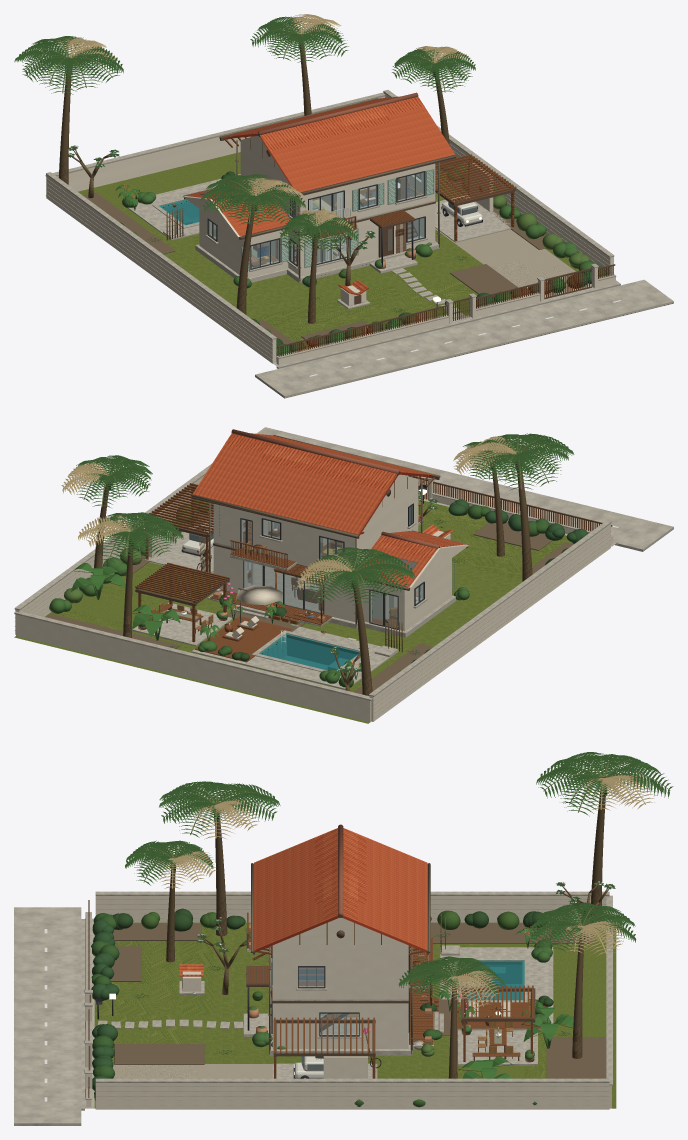
The model's file is lanai_house.glb.
3 renders of one model, top to bottom at view 1: azimuth 30°, elevation 25°; view 2: azimuth 150°, elevation 25°; view 3: azimuth 270°, elevation 25°, orthographic. The views are drawn at different scales.
Parts seen in each view (by area): view 1: SITE_All, LANDSCAPE_All, ROOF_All, GF_House, F2_House, POOL_All, GF_Trim, GF_Interior, F2_Interior; view 2: SITE_All, LANDSCAPE_All, ROOF_All, GF_House, POOL_All, F2_House, GF_Trim, POOL_Water, GF_Interior, F2_Interior; view 3: SITE_All, LANDSCAPE_All, ROOF_All, F2_House, GF_House, POOL_All, GF_Trim, POOL_Water, F2_Interior.
Part boxes in pixels (<box>): SITE_All: <box>45,90,673,398</box>; LANDSCAPE_All: <box>14,14,606,359</box>; ROOF_All: <box>183,92,456,281</box>; GF_House: <box>195,190,439,282</box>; F2_House: <box>240,142,435,247</box>; POOL_All: <box>121,174,240,240</box>; GF_Trim: <box>292,201,435,267</box>; GF_Interior: <box>251,222,418,267</box>; F2_Interior: <box>294,176,410,221</box>; SITE_All: <box>14,427,673,723</box>; LANDSCAPE_All: <box>49,433,588,696</box>; ROOF_All: <box>191,429,468,627</box>; GF_House: <box>211,527,455,637</box>; POOL_All: <box>191,585,403,689</box>; F2_House: <box>213,481,422,570</box>; GF_Trim: <box>208,505,336,626</box>; POOL_Water: <box>264,637,356,670</box>; GF_Interior: <box>243,532,420,620</box>; F2_Interior: <box>244,520,343,559</box>; SITE_All: <box>14,891,616,1125</box>; LANDSCAPE_All: <box>91,752,673,1107</box>; ROOF_All: <box>251,824,430,1054</box>; F2_House: <box>246,912,428,1000</box>; GF_House: <box>269,988,412,1055</box>; POOL_All: <box>440,913,553,1030</box>; GF_Trim: <box>246,938,443,1049</box>; POOL_Water: <box>465,964,522,999</box>; F2_Interior: <box>298,955,424,986</box>.
Size of the model in its own units: 30.12 by 12 by 38.78.
Materials: 69 (17 with a texture image).
